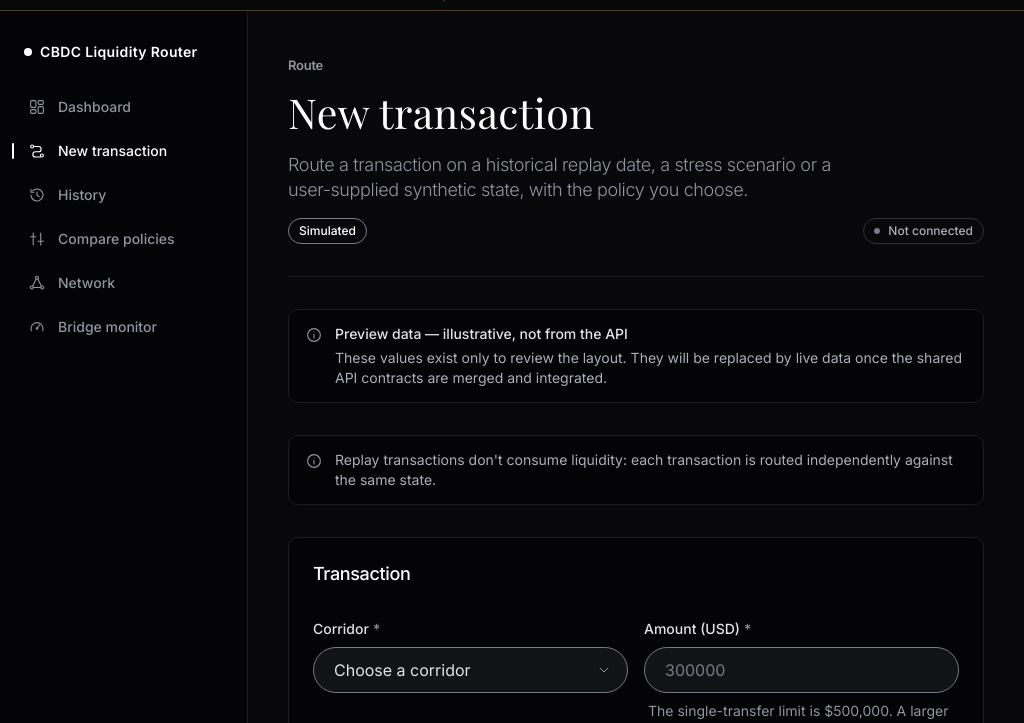
Test: validation › explains an amount of zero and clears an error once the field is edited
In the field labelled "Amount (USD)": (802, 670) [644,647,959,693], type "0"
(page scrolled)
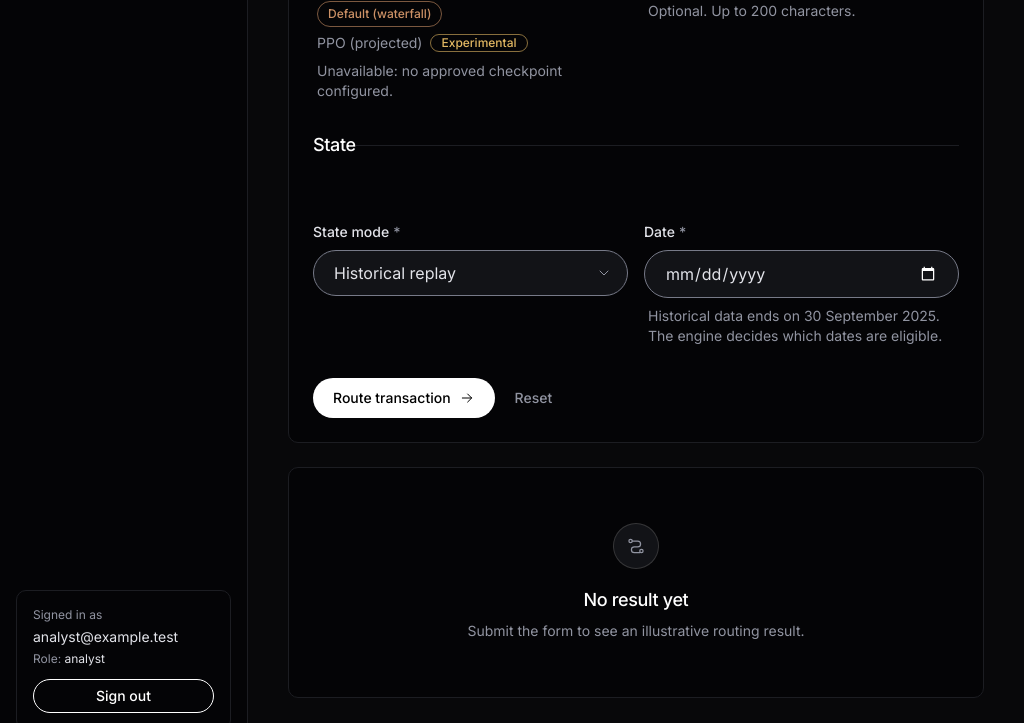
Click the button "Route transaction": (404, 398) [313,378,495,418]
(page scrolled)
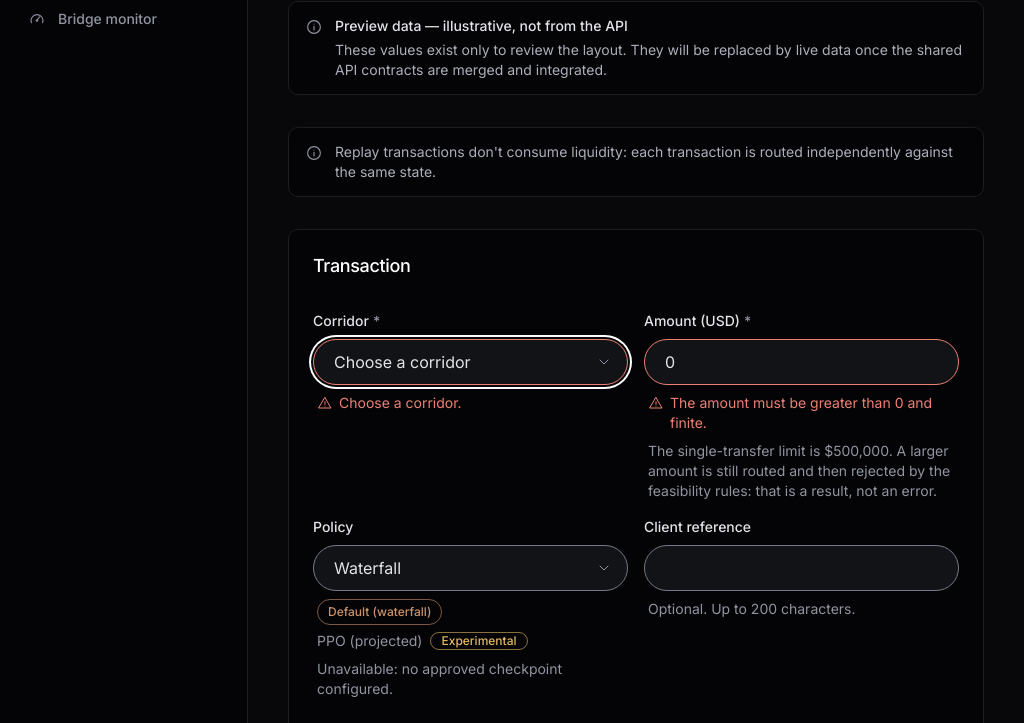
Check: the text "The amount must be greater than 0 and finite." is shown, box [670,393,955,433]
In the field labelled "Amount (USD)": (802, 362) [644,339,959,385], type "5"
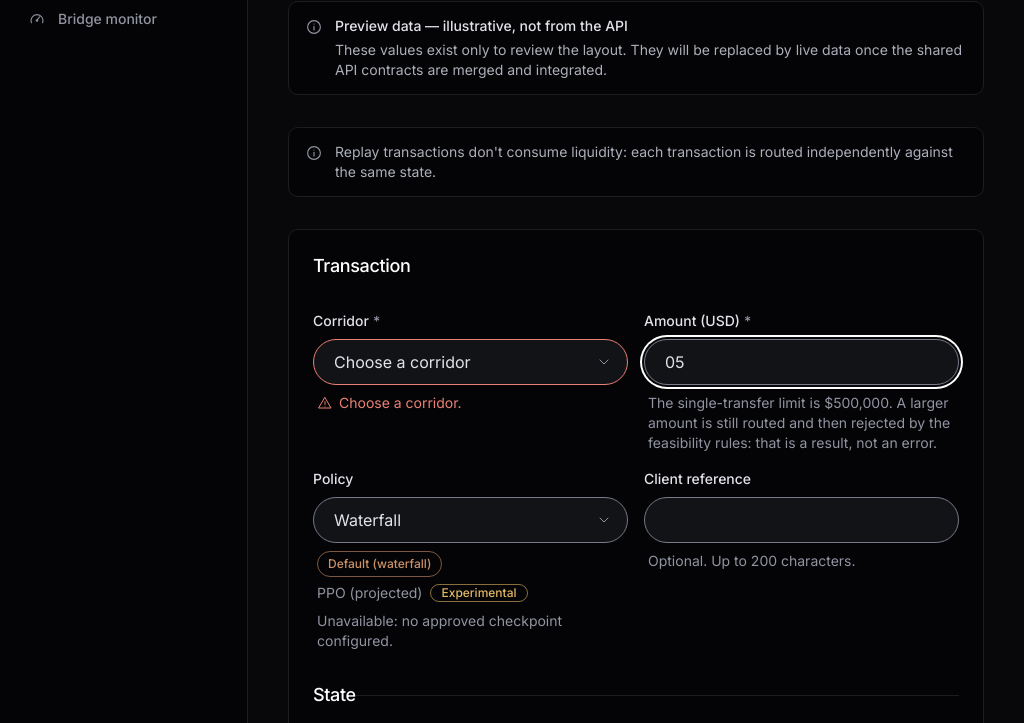
Check: the text "The amount must be greater than 0 and finite." is gone
